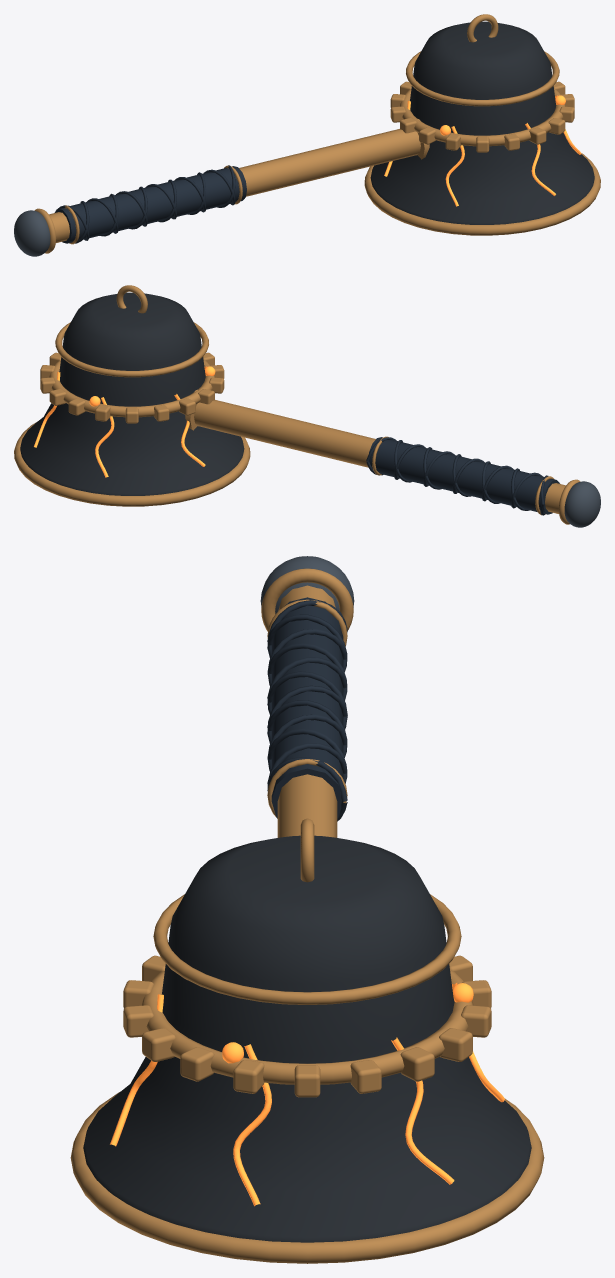
Rendered from foundry-bell.glb.
3 views of the same model, one above another, from view 1: azimuth 30°, elevation 25°; view 2: azimuth 150°, elevation 25°; view 3: azimuth 270°, elevation 25° (orthographic). The views are drawn at different scales.
Visible parts, largest first — view 1: 08_Faultline_Hammer__body_Sculpt_frame, 08_Faultline_Hammer__body_Sculpt_metal, 08_Faultline_Hammer__body_Sculpt_grip, 08_Faultline_Hammer__gear_Sculpt_metal, 08_Faultline_Hammer__body_Sculpt_coat, 08_Faultline_Hammer__body_Sculpt_glow; view 2: 08_Faultline_Hammer__body_Sculpt_frame, 08_Faultline_Hammer__body_Sculpt_metal, 08_Faultline_Hammer__body_Sculpt_grip, 08_Faultline_Hammer__gear_Sculpt_metal, 08_Faultline_Hammer__body_Sculpt_coat, 08_Faultline_Hammer__body_Sculpt_glow; view 3: 08_Faultline_Hammer__body_Sculpt_frame, 08_Faultline_Hammer__body_Sculpt_metal, 08_Faultline_Hammer__gear_Sculpt_metal, 08_Faultline_Hammer__body_Sculpt_grip, 08_Faultline_Hammer__body_Sculpt_glow, 08_Faultline_Hammer__body_Sculpt_coat.
Part boxes in pixels (<box>): 08_Faultline_Hammer__body_Sculpt_frame: <box>370,21,594,224</box>; 08_Faultline_Hammer__body_Sculpt_metal: <box>34,14,600,253</box>; 08_Faultline_Hammer__body_Sculpt_grip: <box>54,165,246,243</box>; 08_Faultline_Hammer__gear_Sculpt_metal: <box>390,81,574,152</box>; 08_Faultline_Hammer__body_Sculpt_coat: <box>14,210,50,256</box>; 08_Faultline_Hammer__body_Sculpt_glow: <box>384,95,581,206</box>; 08_Faultline_Hammer__body_Sculpt_frame: <box>20,292,244,495</box>; 08_Faultline_Hammer__body_Sculpt_metal: <box>14,285,580,524</box>; 08_Faultline_Hammer__body_Sculpt_grip: <box>366,437,559,515</box>; 08_Faultline_Hammer__gear_Sculpt_metal: <box>40,352,224,423</box>; 08_Faultline_Hammer__body_Sculpt_coat: <box>564,481,600,527</box>; 08_Faultline_Hammer__body_Sculpt_glow: <box>34,366,207,477</box>; 08_Faultline_Hammer__body_Sculpt_frame: <box>83,835,531,1242</box>; 08_Faultline_Hammer__body_Sculpt_metal: <box>70,568,544,1263</box>; 08_Faultline_Hammer__gear_Sculpt_metal: <box>123,955,491,1097</box>; 08_Faultline_Hammer__body_Sculpt_grip: <box>267,597,347,821</box>; 08_Faultline_Hammer__body_Sculpt_glow: <box>110,983,504,1206</box>; 08_Faultline_Hammer__body_Sculpt_coat: <box>260,556,354,614</box>.
Bounding box in the file's own units: 2.3 × 0.67 × 0.83.
